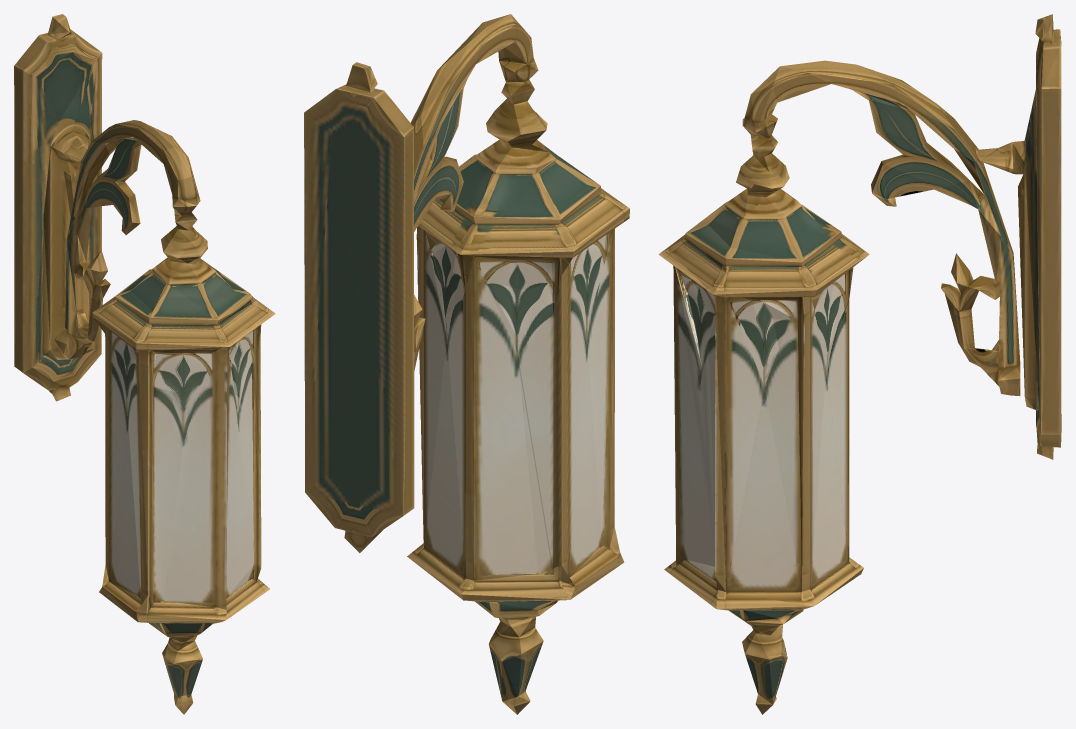
Rendered from item15.glb.
The picture shows the model from 3 angles, left to right: view 1: azimuth 30°, elevation 25°; view 2: azimuth 150°, elevation 25°; view 3: azimuth 270°, elevation 25°; orthographic projection. The views are drawn at different scales.
Parts seen in each view (by area): view 1: output_unwrapped; view 2: output_unwrapped; view 3: output_unwrapped.
Boxes of the visible parts, bbox=[...] form: output_unwrapped: bbox=[14, 14, 275, 714]; output_unwrapped: bbox=[304, 14, 629, 714]; output_unwrapped: bbox=[658, 14, 1061, 714].
Bounding box in the file's own units: 0.2392 × 1 × 0.523.
1 material, 1 textured.
